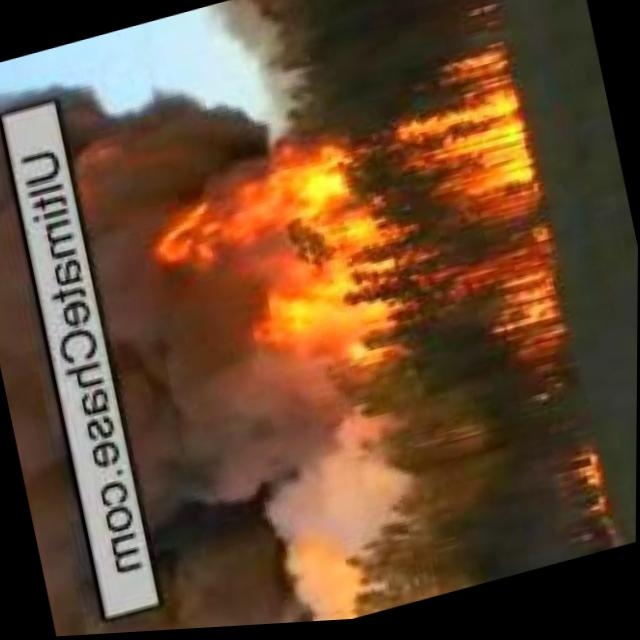Fire: (359, 25, 577, 439), (139, 145, 416, 442), (553, 446, 617, 550)
